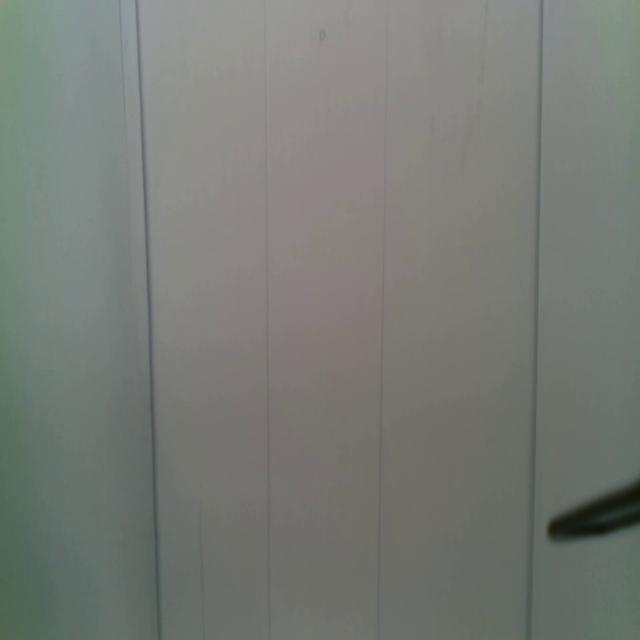crease: (135, 0, 161, 640), (525, 0, 545, 640), (375, 3, 391, 640), (263, 0, 272, 640), (118, 0, 133, 275), (198, 506, 206, 640)
